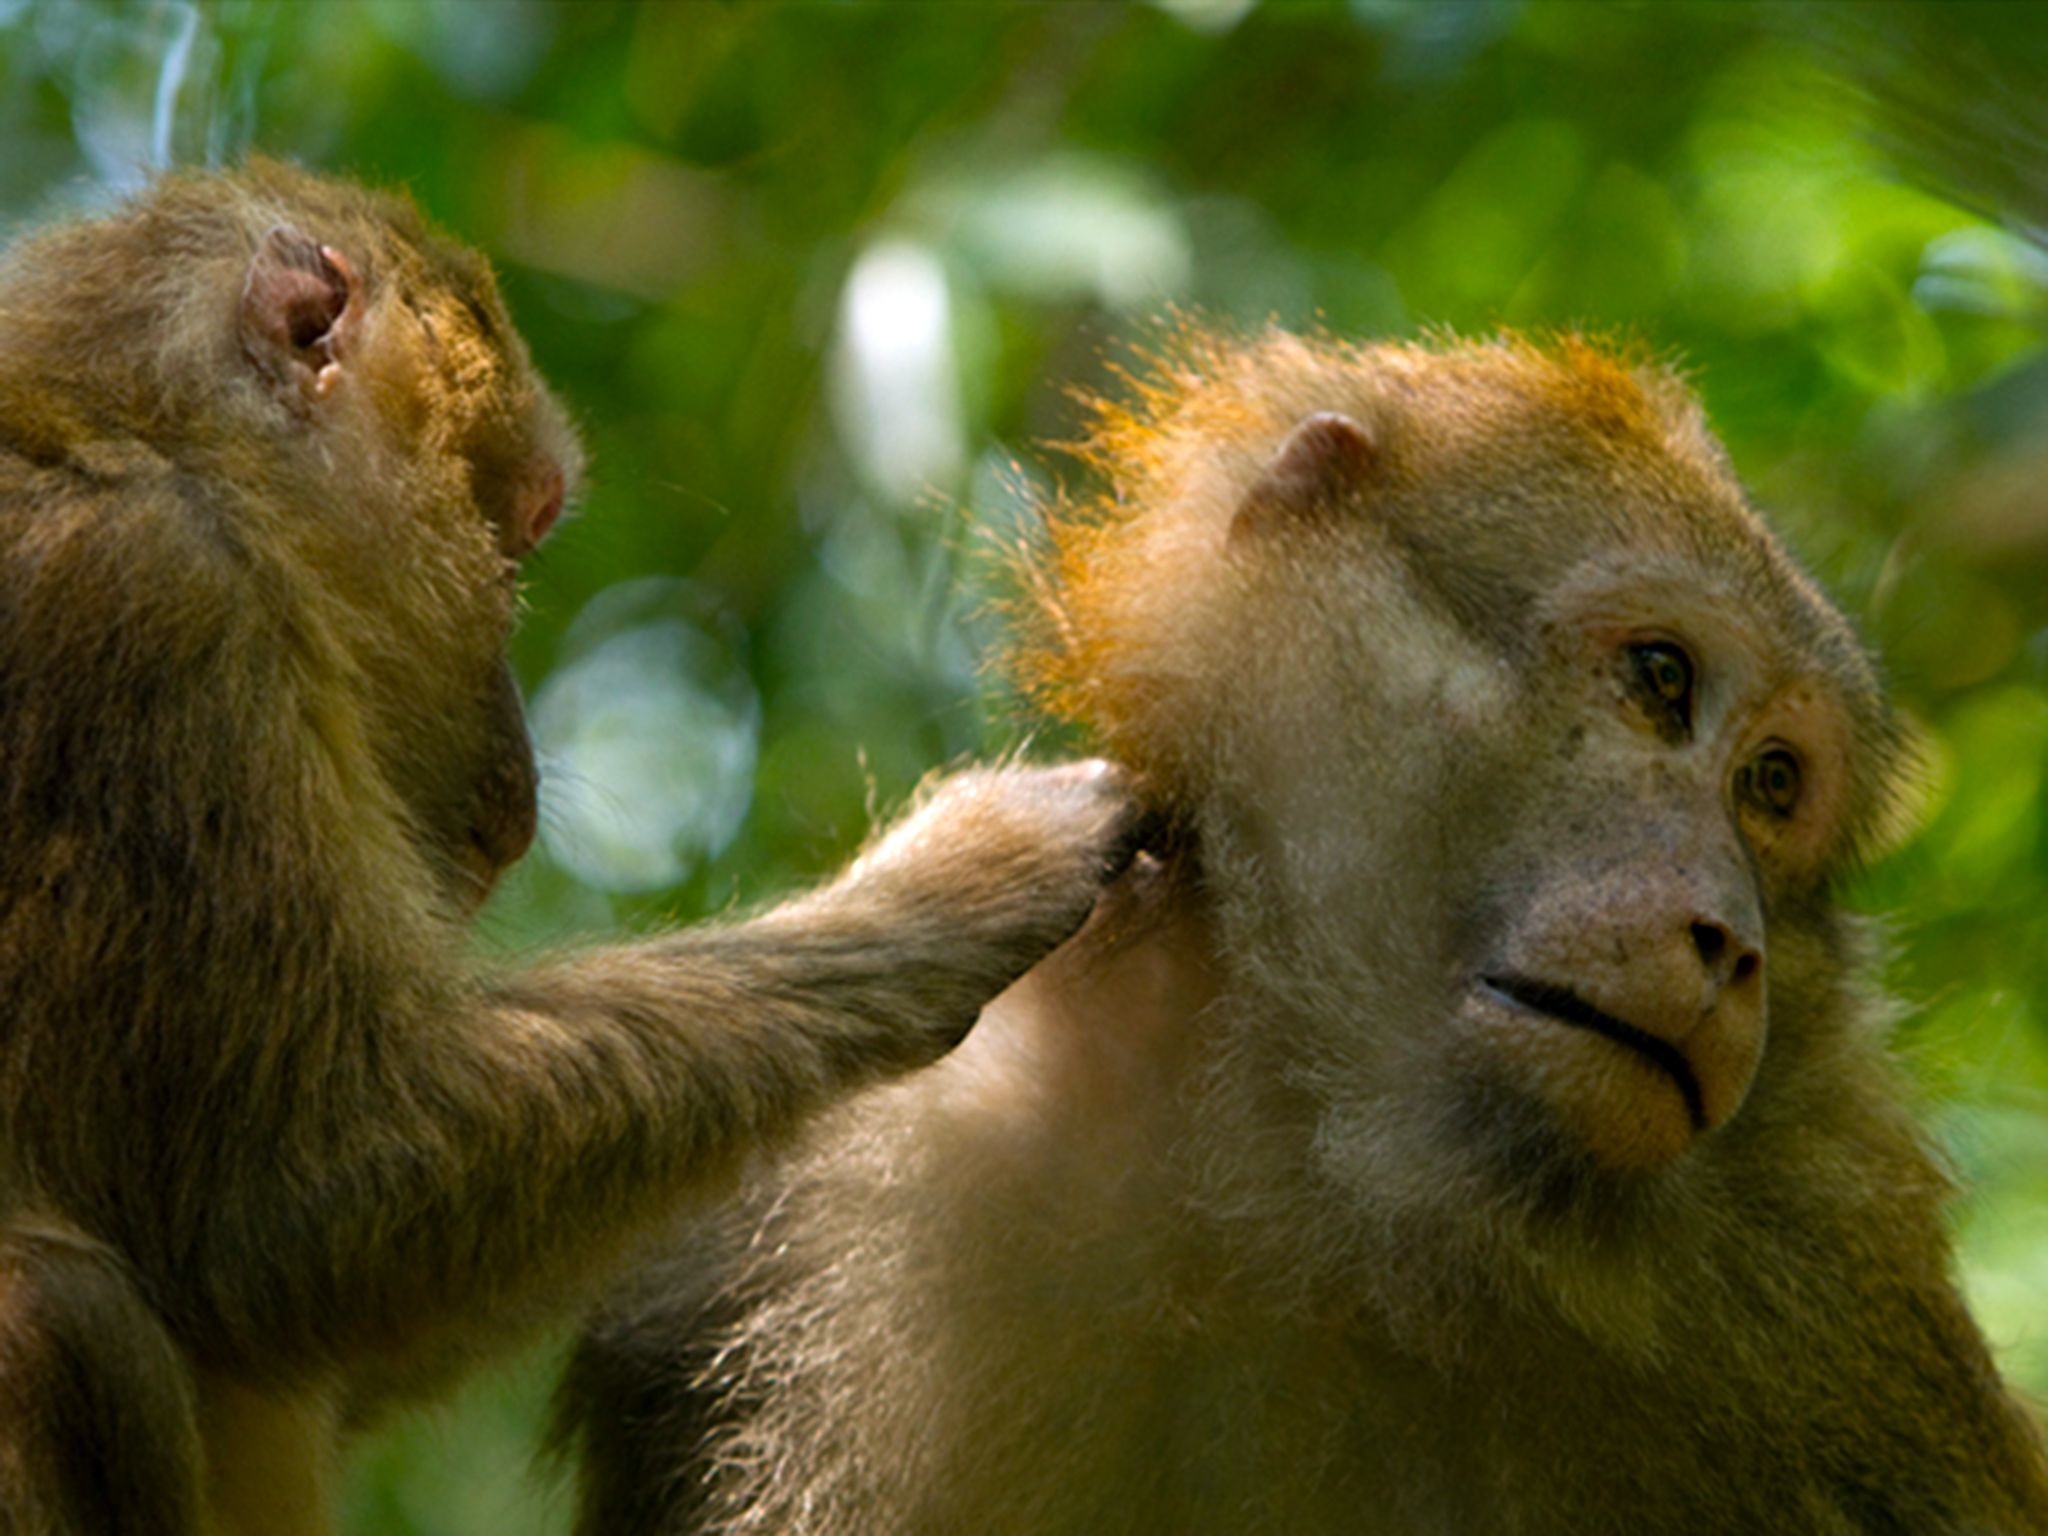monkey: (634, 281, 2048, 1536), (2, 102, 1197, 1536)
